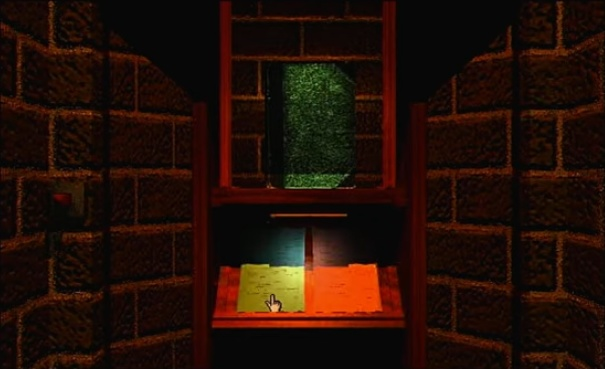Pointer: (264, 292, 285, 314)
